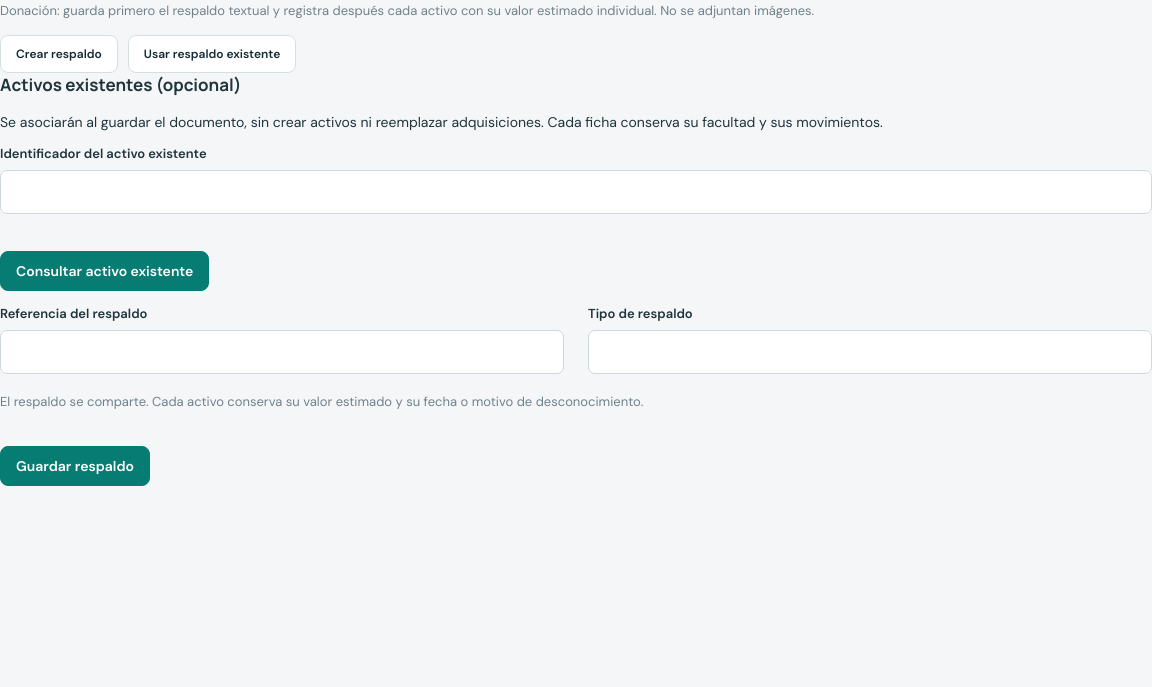
doble envío del respaldo no duplica la escritura ni reintenta
In the field labelled "Referencia del respaldo": coordinates (282, 352) [0,330,564,374], type "TEST-ACTA"
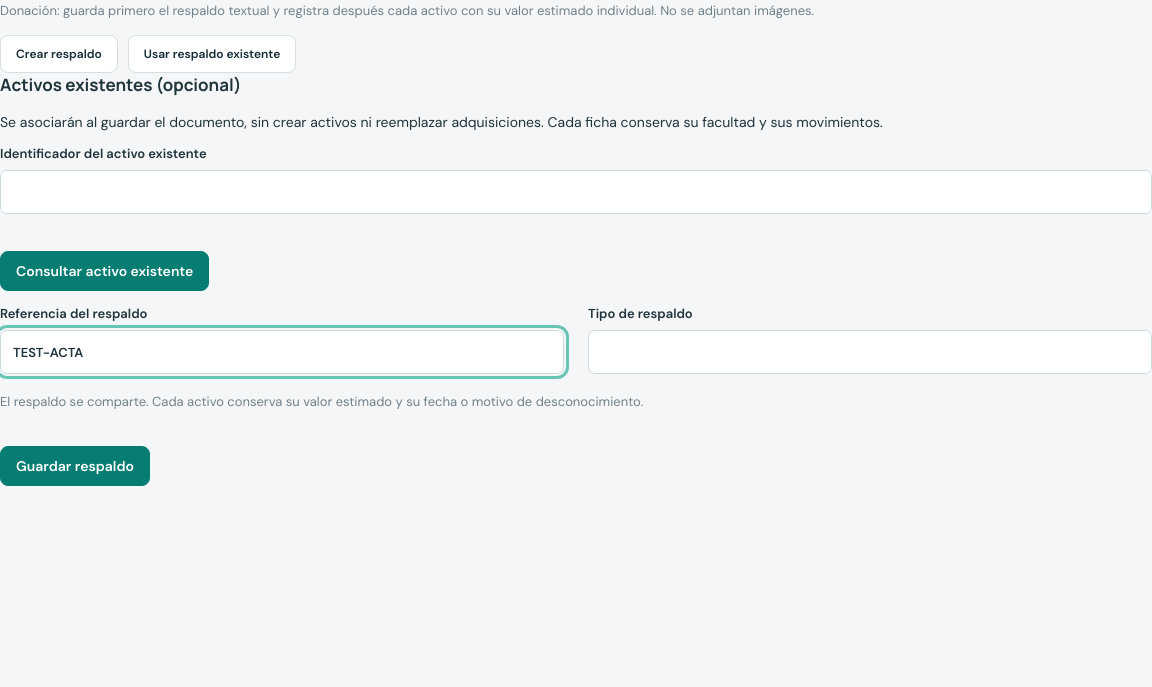
In the field labelled "Tipo de respaldo": coordinates (870, 352) [588,330,1151,374], type "Acta ficticia"
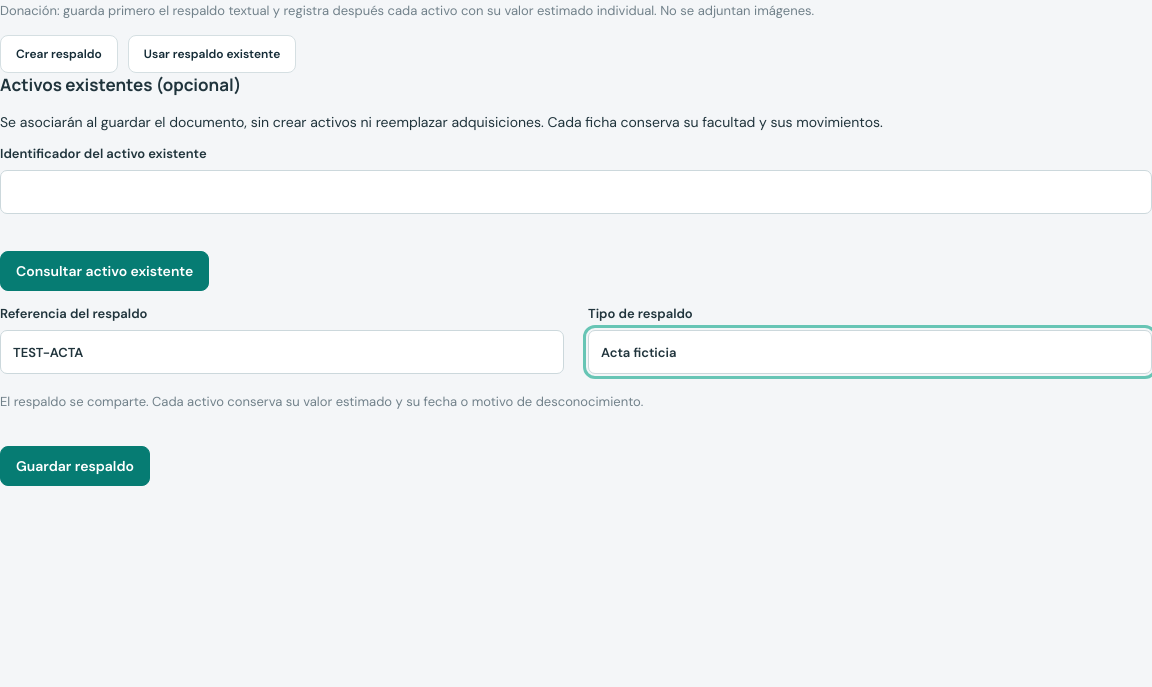
Double-click the button "Guardar respaldo": coordinates (75, 466) [0,446,150,486]
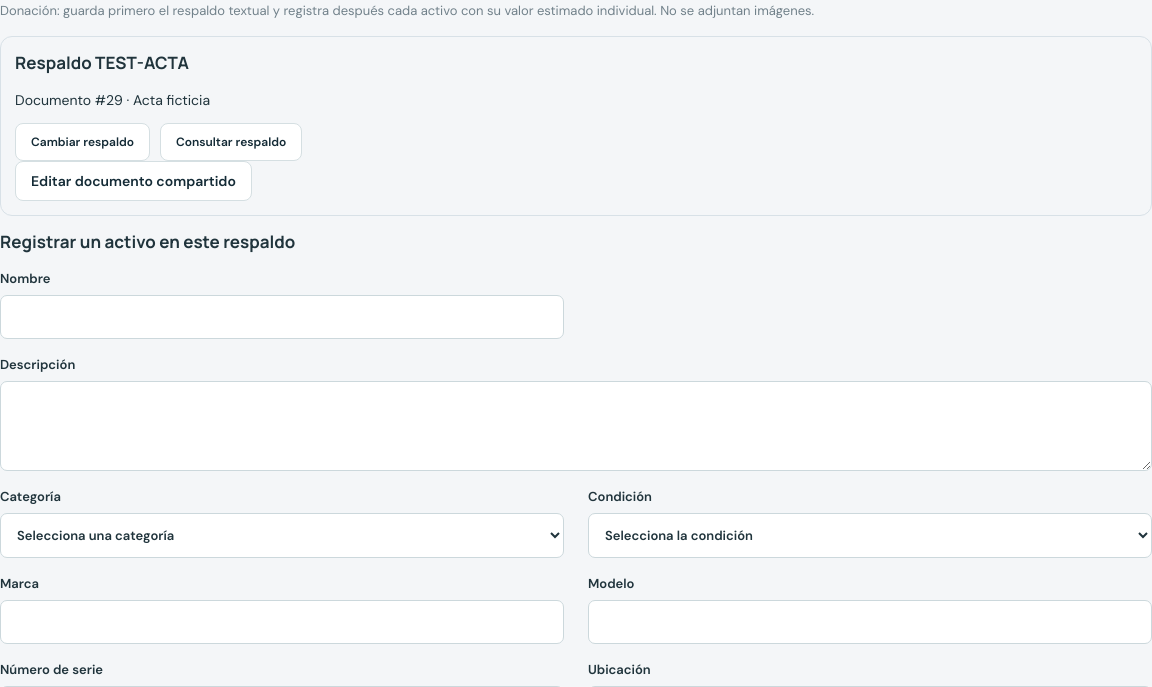
Check: the heading "Respaldo TEST-ACTA" is shown, box [15,51,189,74]
